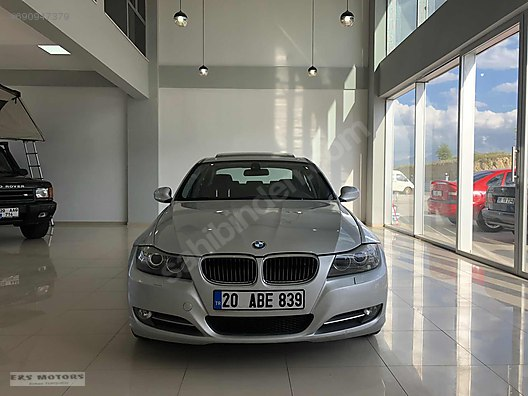bmw: (124, 151, 390, 349)
